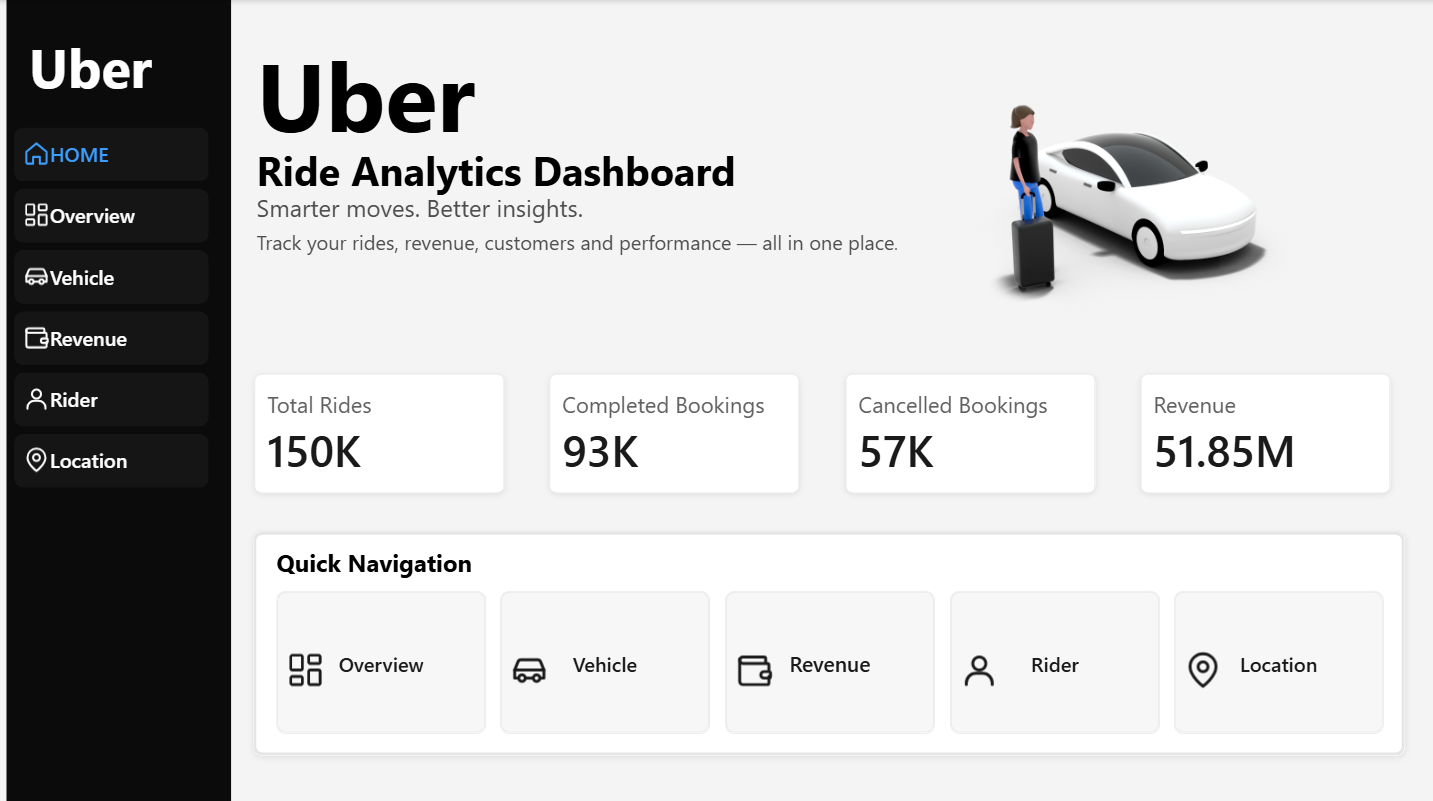

The page's visual inventory and layout, read from the dashboard file:
{"tool":"powerbi","page":{"name":"Home","canvas":[1920,1080],"ordinal":0},"visuals":[{"type":"shape","box":[10,0,300,1080],"z":0},{"type":"textbox","box":[40,40,305.1,162.3],"z":1000},{"type":"actionButton","box":[20,170,260,72],"z":2000},{"type":"actionButton","box":[20,252,260,72],"z":3000},{"type":"actionButton","box":[20,334,260,72],"z":4000},{"type":"actionButton","box":[20,416,260,72],"z":5000},{"type":"actionButton","box":[20,498,260,72],"z":6000},{"type":"actionButton","box":[20,580,260,72],"z":7000},{"type":"textbox","box":[344.1,190.4,660.1,132],"z":8000},{"type":"textbox","box":[344.1,255.4,571.3,67.1],"z":9000},{"type":"textbox","box":[344.1,305.1,1077.7,64.9],"z":10000},{"type":"textbox","box":[344,39,409,248.9],"z":11000},{"type":"cardVisual","fields":{"Data":["ALL_Measures.Completed Bookings"]},"box":[735,500,335,160],"z":12000},{"type":"cardVisual","fields":{"Data":["ALL_Measures.Revenue"]},"box":[1525,500,335,160],"z":13000},{"type":"cardVisual","fields":{"Data":["ALL_Measures.Cancelled Bookings"]},"box":[1130,500,335,160],"z":14000},{"type":"cardVisual","fields":{"Data":["ALL_Measures.Total Rides"]},"box":[340,500,335,160],"z":15000},{"type":"shape","box":[339.8,709.8,1540,300.8],"z":16000},{"type":"actionButton","box":[370,790,280,190],"z":17000},{"type":"actionButton","box":[1270,790,280,190],"z":18000},{"type":"actionButton","box":[1570,790,280,190],"z":19000},{"type":"actionButton","box":[970,790,280,190],"z":20000},{"type":"actionButton","box":[670,790,280,190],"z":21000},{"type":"textbox","box":[370,730,356.5,110.4],"z":22000},{"type":"image","box":[1300,30,440,440],"z":23000}]}

Visuals, with their boxes in screenshot pixels (x1, y1, x2, y2), scaled from the page's 1920x1080 canvas onto the 1433x801 screenshot:
shape: region(7, 0, 231, 800)
textbox: region(30, 30, 258, 150)
actionButton: region(15, 126, 209, 179)
actionButton: region(15, 187, 209, 240)
actionButton: region(15, 248, 209, 301)
actionButton: region(15, 309, 209, 362)
actionButton: region(15, 369, 209, 423)
actionButton: region(15, 430, 209, 484)
textbox: region(257, 141, 749, 239)
textbox: region(257, 189, 683, 239)
textbox: region(257, 226, 1061, 274)
textbox: region(257, 29, 562, 214)
cardVisual - ALL_Measures.Completed Bookings: region(549, 371, 799, 490)
cardVisual - ALL_Measures.Revenue: region(1138, 371, 1388, 490)
cardVisual - ALL_Measures.Cancelled Bookings: region(843, 371, 1093, 490)
cardVisual - ALL_Measures.Total Rides: region(254, 371, 504, 490)
shape: region(254, 526, 1403, 750)
actionButton: region(276, 586, 485, 727)
actionButton: region(948, 586, 1157, 727)
actionButton: region(1172, 586, 1381, 727)
actionButton: region(724, 586, 933, 727)
actionButton: region(500, 586, 709, 727)
textbox: region(276, 541, 542, 623)
image: region(970, 22, 1299, 349)
